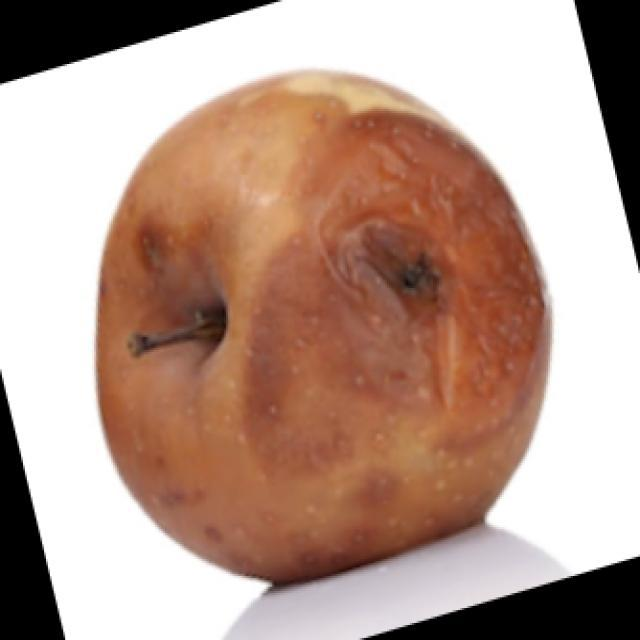Rotten: (79, 70, 548, 568)
